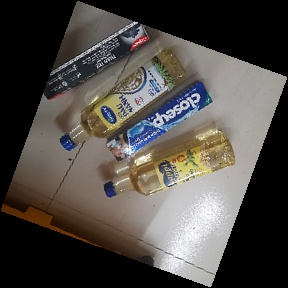CloseUp Tuyet: (105, 78, 214, 165)
Colgate Than: (40, 18, 151, 102)
Happy Soya: (100, 126, 238, 199)
Simply: (58, 46, 188, 153)
